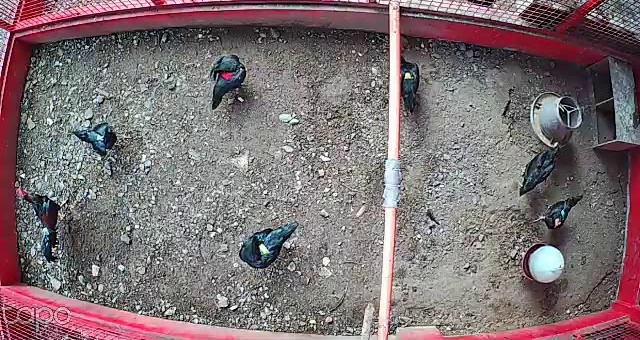Chicken: (237, 217, 299, 269), (206, 54, 255, 117), (71, 120, 127, 161), (528, 195, 583, 234)
Rooster: (13, 182, 75, 267)
Saddle_Color_Blue: (392, 51, 423, 109), (559, 209, 569, 219)
Saddle_Color_Red: (221, 70, 235, 80)
Saddle_Color_Yellow: (403, 73, 414, 79)
Saddle_Color_YellowGreen: (518, 140, 564, 196), (258, 244, 270, 256)
